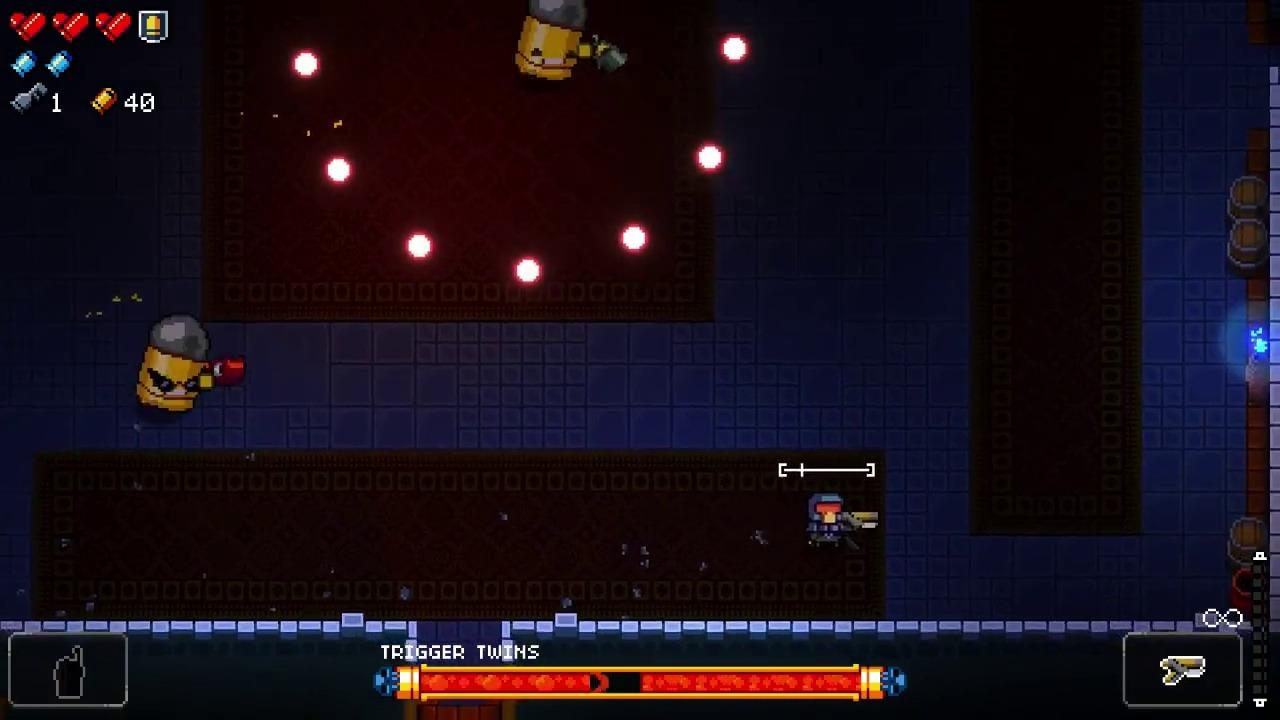boss_shades: (136, 314, 210, 415)
boss_smiley: (517, 0, 587, 84)
bullet: (695, 143, 726, 176), (513, 255, 543, 288), (720, 34, 751, 65), (404, 231, 433, 262), (619, 223, 650, 252), (325, 157, 353, 188), (292, 51, 320, 79)
player: (807, 490, 848, 549)
